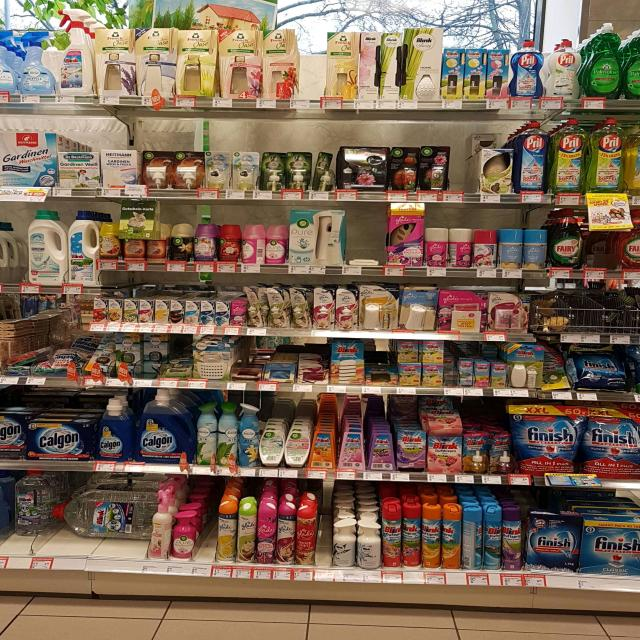void: (353, 208, 386, 263), (306, 30, 324, 101), (456, 153, 475, 191)
